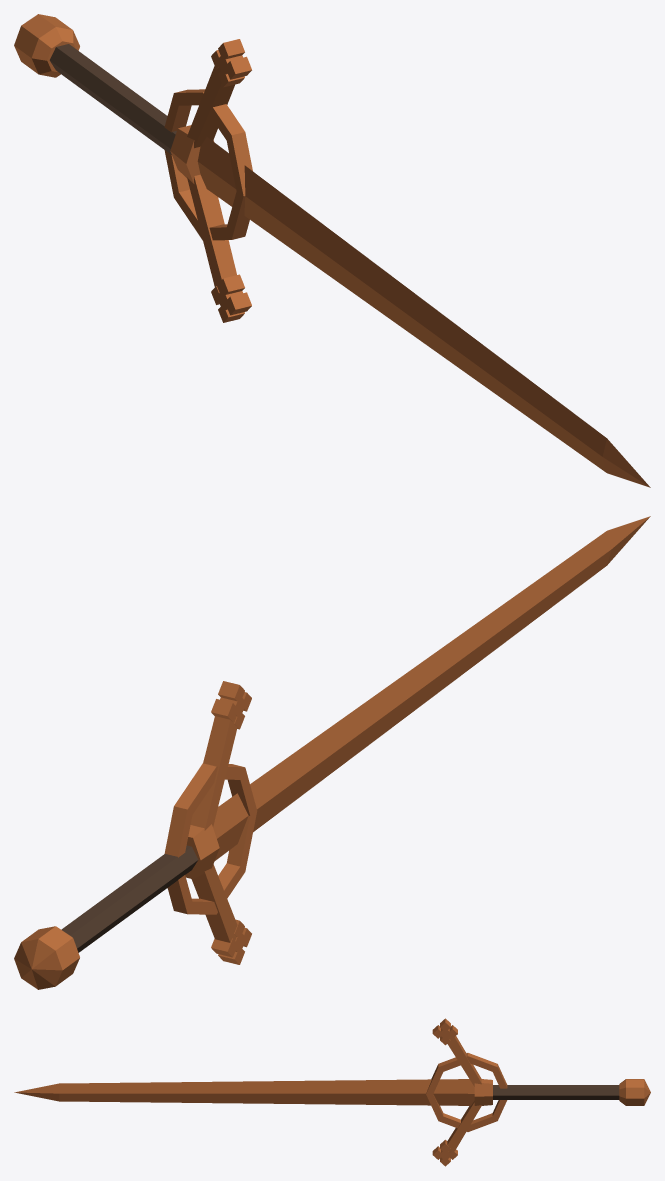
Rendered from Longsword.fbx.
The picture shows the model from 3 angles, top to bottom: view 1: azimuth 30°, elevation 25°; view 2: azimuth 150°, elevation 25°; view 3: azimuth 270°, elevation 25°; orthographic projection. The views are drawn at different scales.
Visible parts, largest first — view 1: Longsword; view 2: Longsword; view 3: Longsword.
Boxes of the visible parts, x1,y1,x2,y2 form: Longsword: (14, 14, 650, 487); Longsword: (14, 516, 650, 989); Longsword: (14, 1018, 650, 1166).
Bounding box in the file's own units: 0.064 × 0.352 × 1.41.
